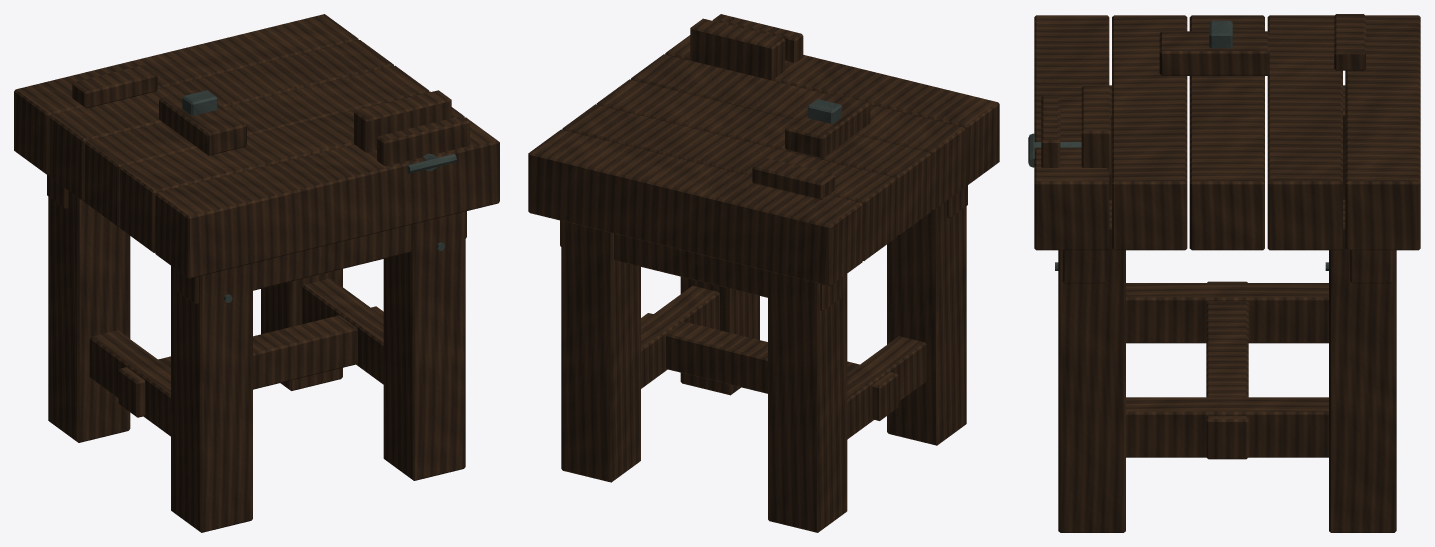
File: workbench-lod1.gltf
The picture shows the model from 3 angles, left to right: view 1: azimuth 30°, elevation 25°; view 2: azimuth 150°, elevation 25°; view 3: azimuth 270°, elevation 25°; orthographic projection. The views are drawn at different scales.
Visible parts, largest first — view 1: workbench LOD1 workbench; view 2: workbench LOD1 workbench; view 3: workbench LOD1 workbench.
Part boxes in pixels (x1,y1,x2,y2): workbench LOD1 workbench: (14, 14, 499, 532); workbench LOD1 workbench: (528, 14, 999, 532); workbench LOD1 workbench: (1028, 14, 1420, 532).
Bounding box in the file's own units: 0.94 × 1.05 × 0.928.
Materials: 2 (2 with a texture image).
